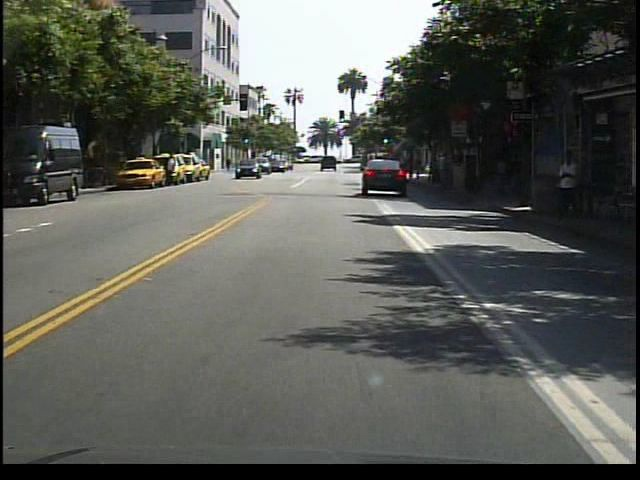person: (550, 147, 585, 226), (163, 153, 179, 190)
